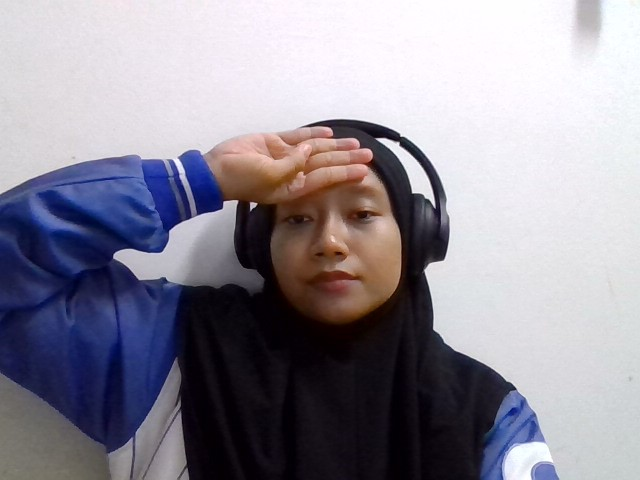Demam: (223, 124, 384, 228)
